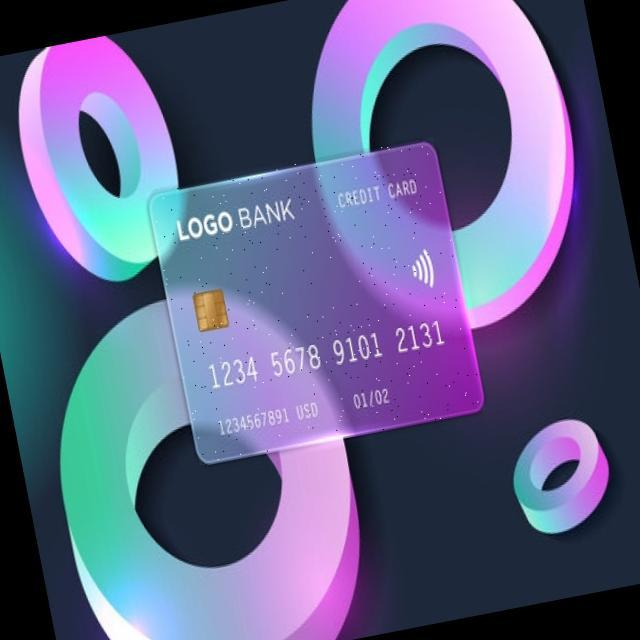payment_card: (146, 140, 485, 465)
